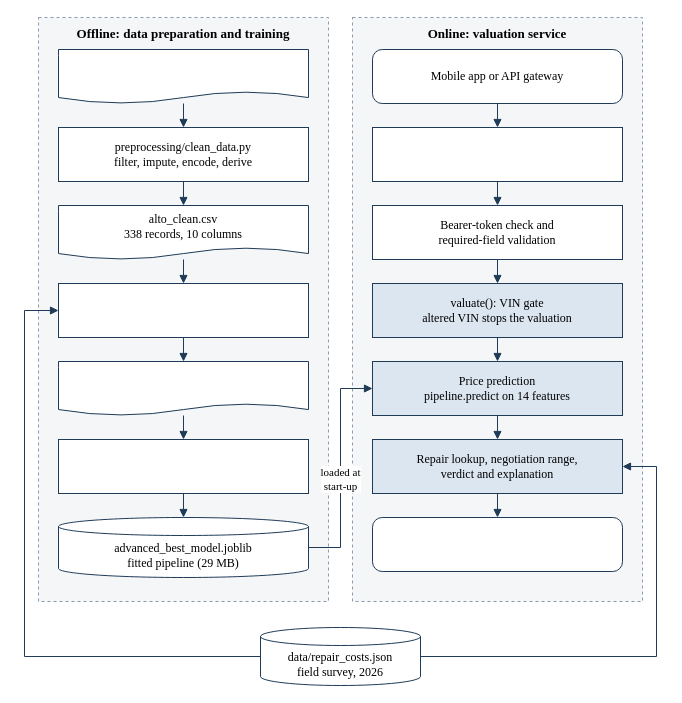
This 682x703 diagram has some shape labels left out. Each missing label, with the centre of its shape:
ALTO data_Updated.xlsx 343 advertised listings: (183,76)
Flask application (api/app.py) GET /api/v1/health, POST /api/v1/valuate: (497,154)
holistic_augmented.csv 2,000 records, 14 columns: (183,388)
JSON response: (497,544)
models/advanced_model_optimization.py randomised search, stacking, evaluation: (183,466)
preprocessing/augment_holistic.py add condition features, apply deductions: (183,310)
